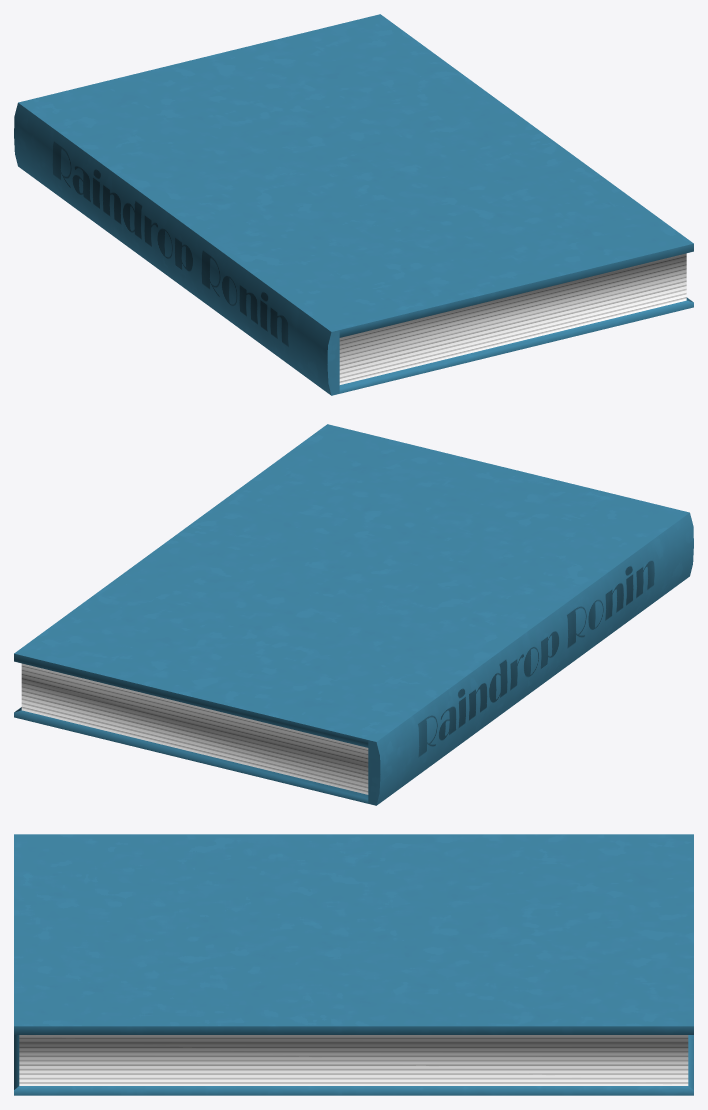
Rendered from BlueBook.FBX.
The picture shows the model from 3 angles, top to bottom: view 1: azimuth 30°, elevation 25°; view 2: azimuth 150°, elevation 25°; view 3: azimuth 270°, elevation 25°; orthographic projection. The views are drawn at different scales.
Parts seen in each view (by area): view 1: Box001; view 2: Box001; view 3: Box001.
Boxes of the visible parts, bbox=[...] form: Box001: bbox=[14, 14, 693, 395]; Box001: bbox=[14, 424, 693, 805]; Box001: bbox=[14, 834, 693, 1095].
Bounding box in the file's own units: 20.17 × 3.36 × 29.89.
